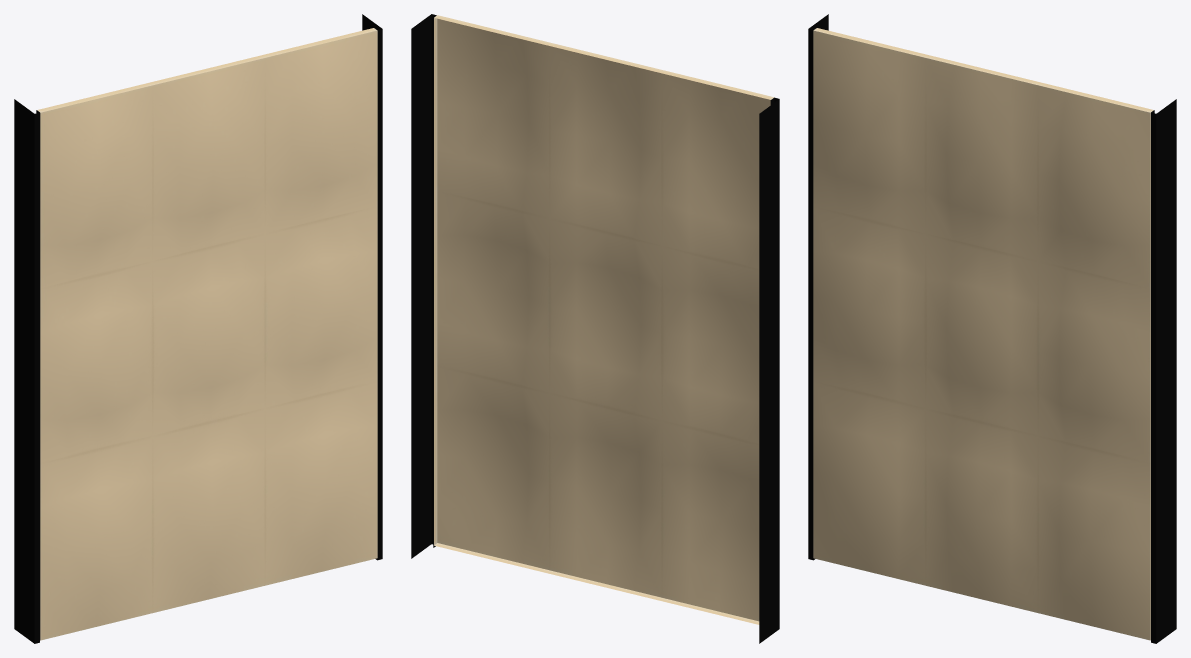
File: BackBed.fbx
3 renders of one model, left to right at view 1: azimuth 30°, elevation 25°; view 2: azimuth 150°, elevation 25°; view 3: azimuth 330°, elevation 25°, orthographic.
Visible parts, largest first — view 1: prop_BackBed; view 2: prop_BackBed; view 3: prop_BackBed.
Boxes of the visible parts, x1=… form: prop_BackBed: x1=14, y1=14, x2=382, y2=643; prop_BackBed: x1=411, y1=14, x2=779, y2=643; prop_BackBed: x1=808, y1=14, x2=1176, y2=643.
Bounding box in the file's own units: 1.85 × 2.69 × 0.2289.
